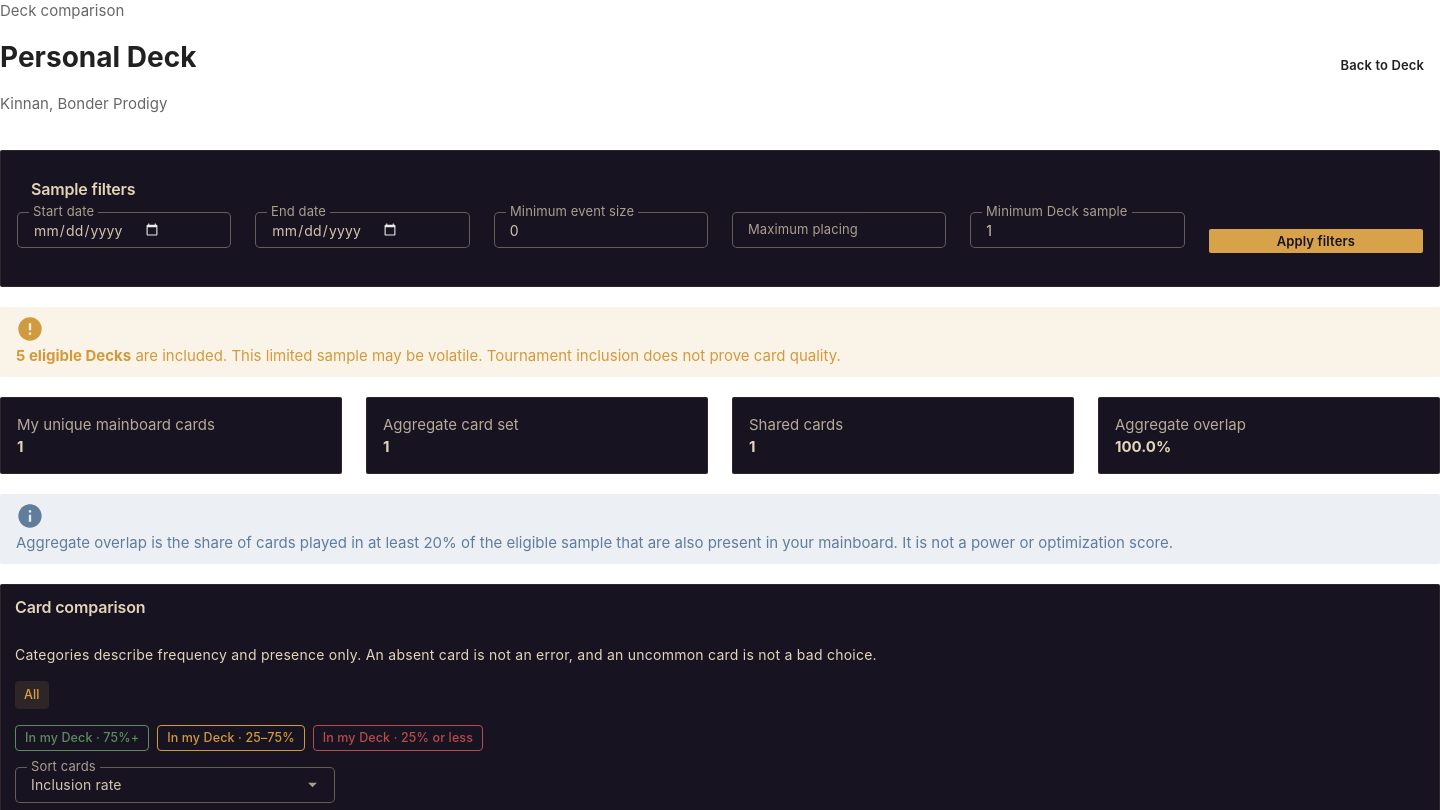
Test: DeckComparisonView › shows limited sample and repository failure states
What coordinates should you click on to do the following:
click the button "Apply filters"
I would click on:
 (1316, 241)
Its box is [1209,229,1423,253].
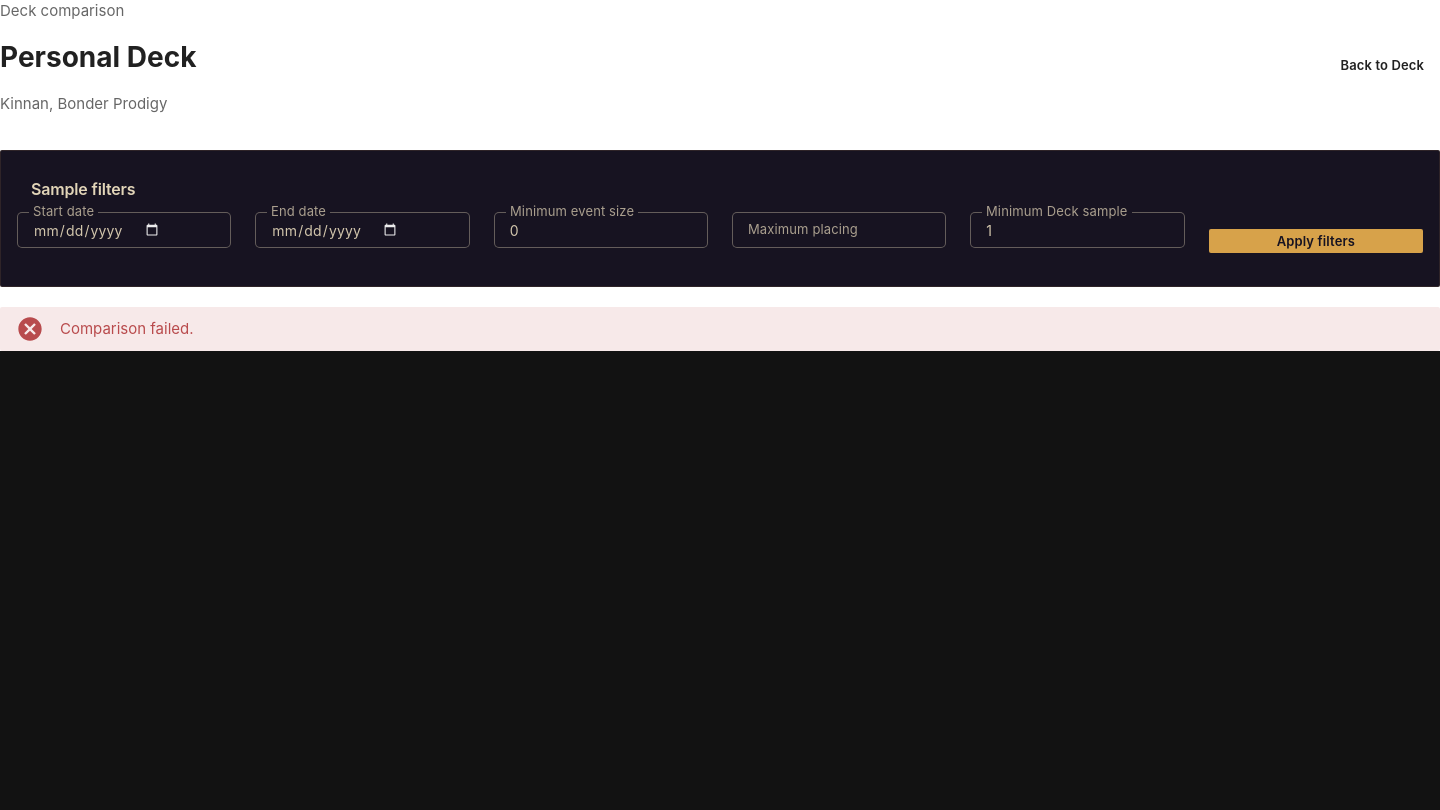
Expected: the text "Comparison failed." is shown, [60,319,194,338]
